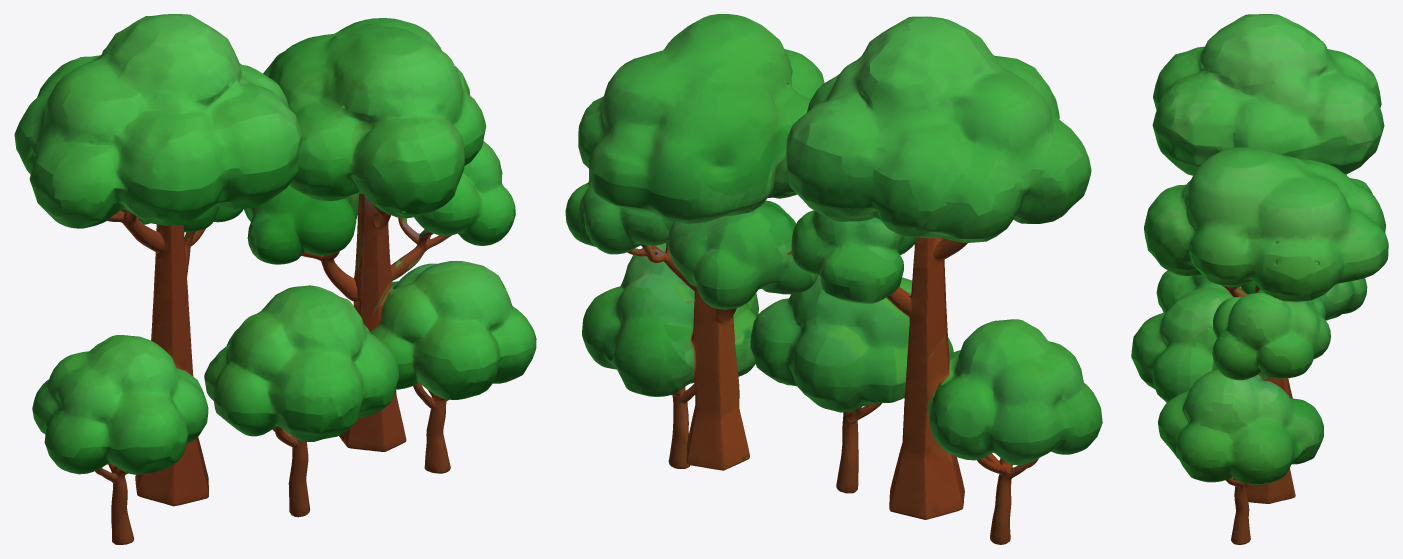
Rendered from TreeFive.glb.
3 renders of one model, left to right at view 1: azimuth 30°, elevation 25°; view 2: azimuth 150°, elevation 25°; view 3: azimuth 270°, elevation 25°, orthographic. The views are drawn at different scales.
Parts seen in each view (by area): view 1: geometry_0; view 2: geometry_0; view 3: geometry_0.
Part boxes in pixels (x1,y1,x2,y2): geometry_0: (14, 14, 536, 544); geometry_0: (565, 14, 1102, 544); geometry_0: (1131, 14, 1388, 544).
Size of the model in its own units: 0.5199 by 0.52 by 0.2904.
Materials: 1 (1 with a texture image).
